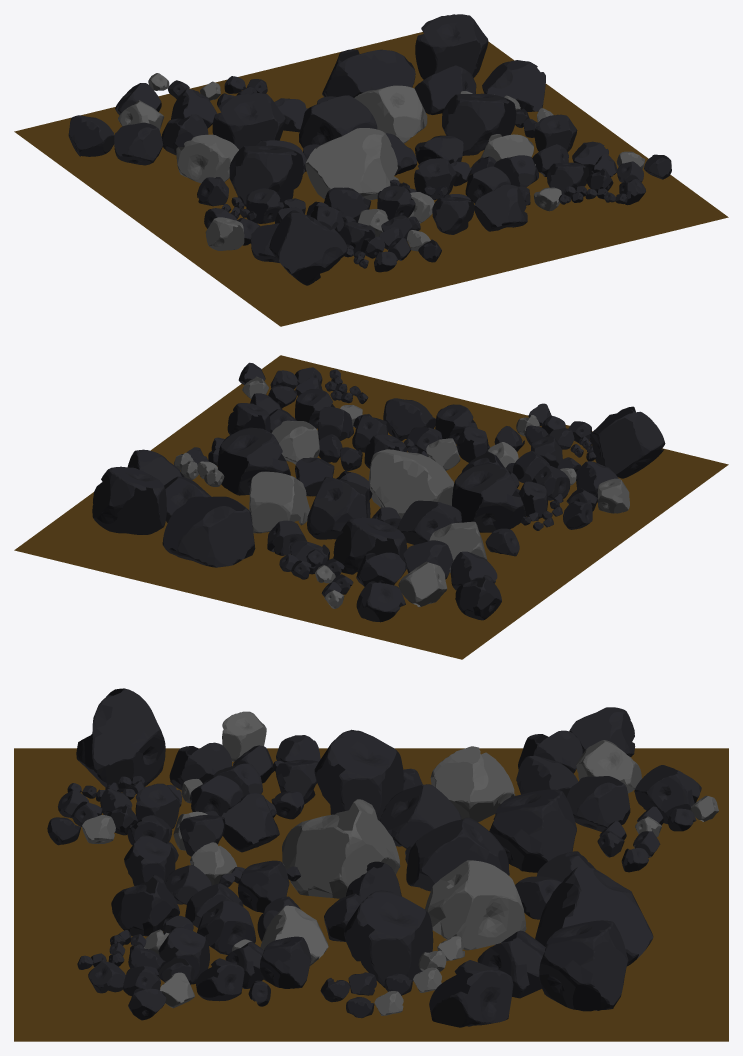
The model's file is Kleine stenenfbx.fbx.
The picture shows the model from 3 angles, top to bottom: view 1: azimuth 30°, elevation 25°; view 2: azimuth 150°, elevation 25°; view 3: azimuth 270°, elevation 25°; orthographic projection. The views are drawn at different scales.
Parts seen in each view (by area): view 1: Plane.001; view 2: Plane.001; view 3: Plane.001.
Part boxes in pixels (x1,y1,x2,y2): Plane.001: (14, 14, 728, 326); Plane.001: (14, 355, 728, 659); Plane.001: (14, 688, 728, 1041).
Size of the model in its own units: 1 by 0.2073 by 1.03.
